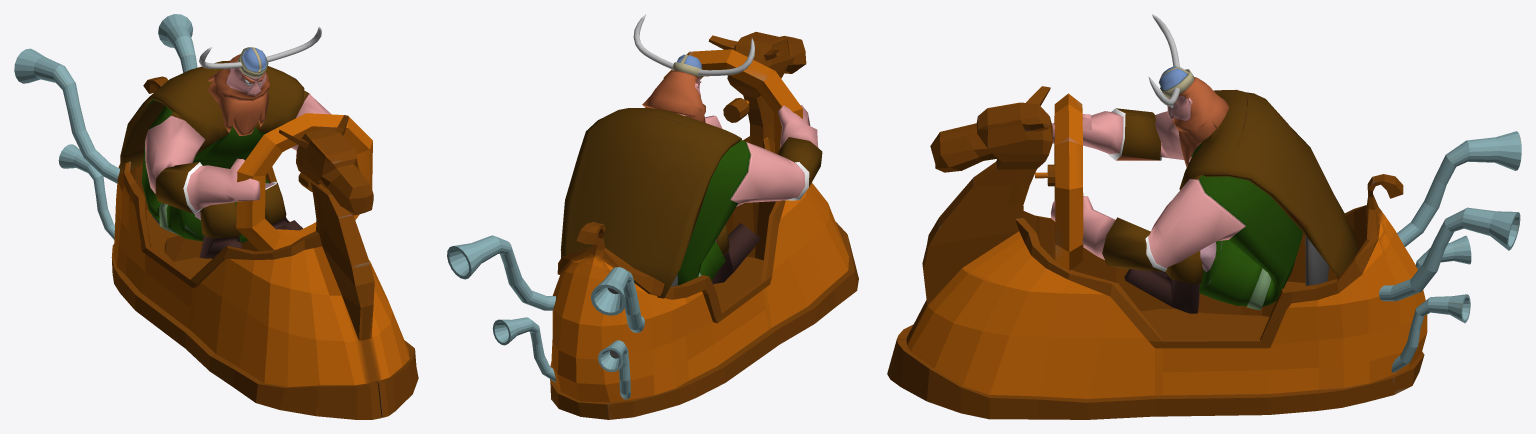
Rendered from vikingoVacile_000478.obj.
3 renders of one model, left to right at view 1: azimuth 30°, elevation 25°; view 2: azimuth 150°, elevation 25°; view 3: azimuth 270°, elevation 25°, orthographic. The views are drawn at different scales.
Parts seen in each view (by area): view 1: kartVikingo, Vikingo; view 2: kartVikingo, Vikingo; view 3: kartVikingo, Vikingo.
Part boxes in pixels (x1,y1,x2,y2): kartVikingo: [14, 14, 418, 419]; Vikingo: [120, 26, 331, 258]; kartVikingo: [447, 32, 858, 419]; Vikingo: [560, 14, 822, 298]; kartVikingo: [887, 86, 1521, 419]; Vikingo: [1050, 14, 1358, 313].
Size of the model in its own units: 4.3 by 6 by 10.31.
Materials: 2 (2 with a texture image).
